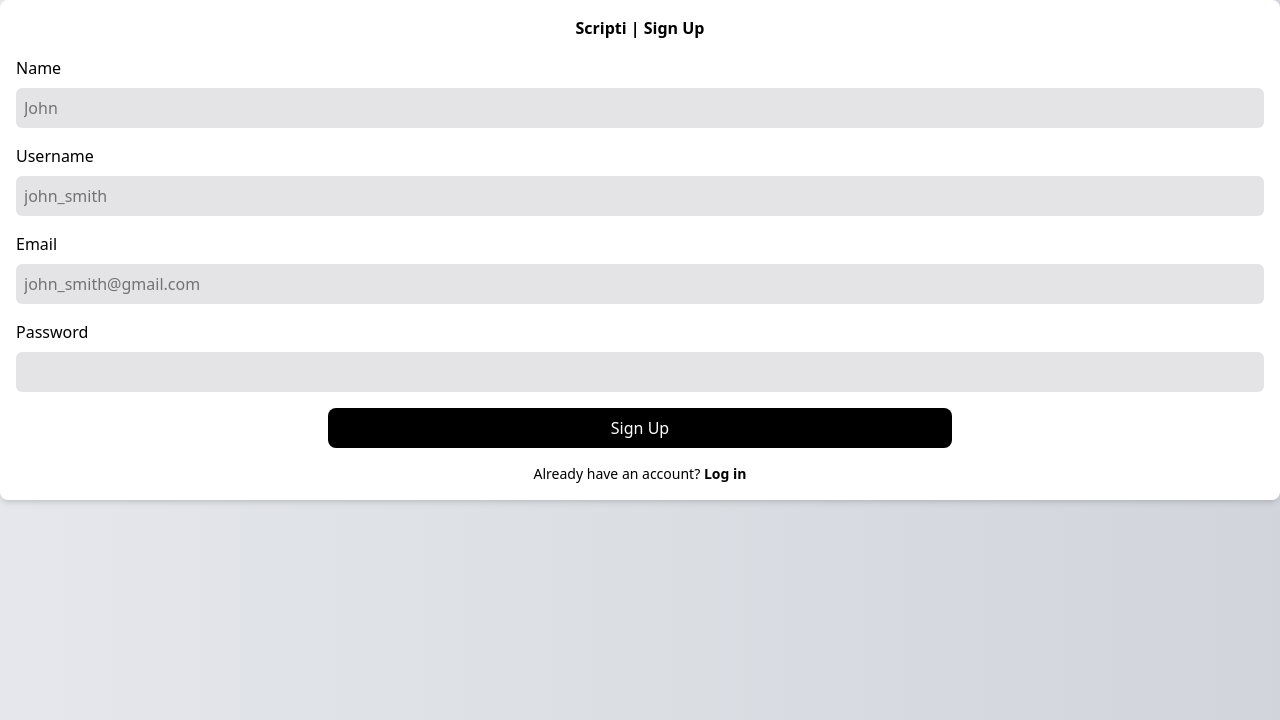
Scenario: signup page: messages › should display error message for internal error
The width and height of the screenshot is (1280, 720).
Click the button "Sign Up". click: (640, 428)
box: [328, 408, 952, 448]
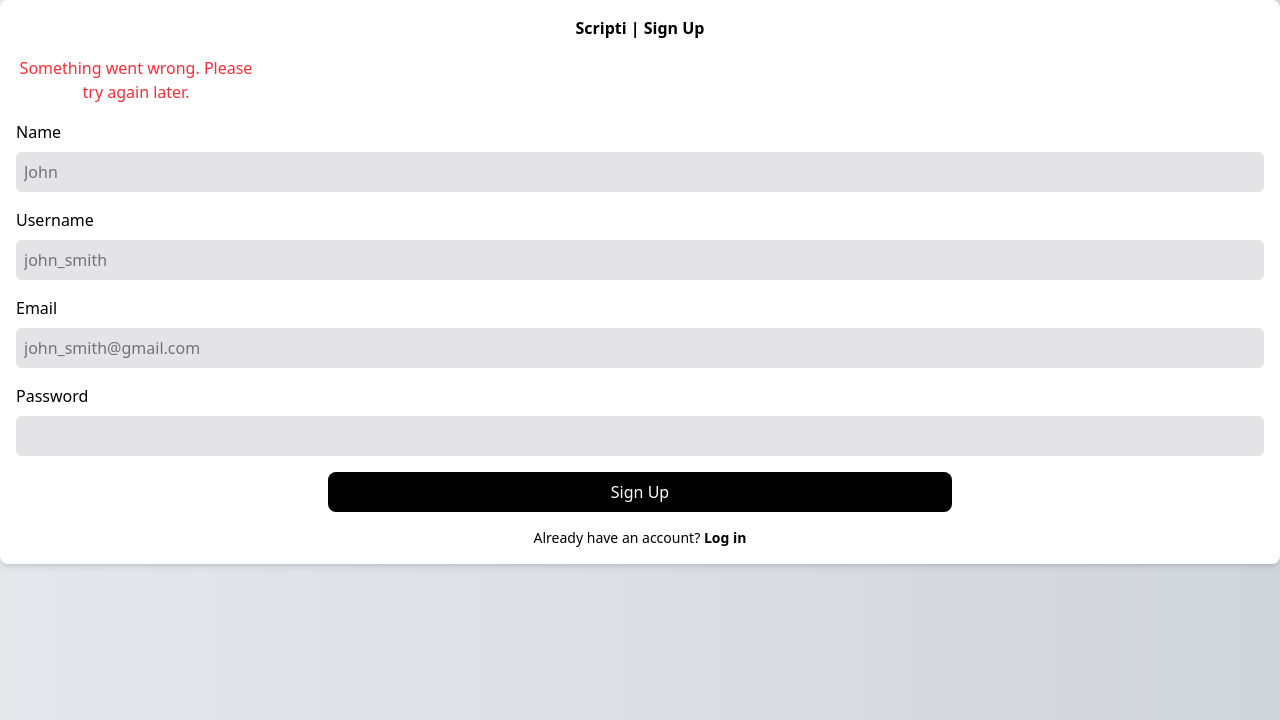
Now the text "Something went wrong. Please try again later." is shown, box [16, 56, 256, 104]
